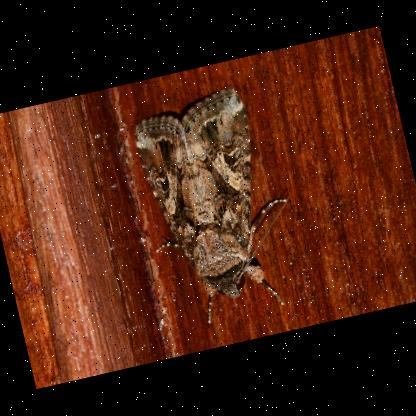Fall Armyworm Moth: (122, 77, 318, 336)
